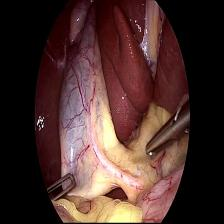Grasper: (144, 100, 188, 164), (46, 170, 77, 210)
